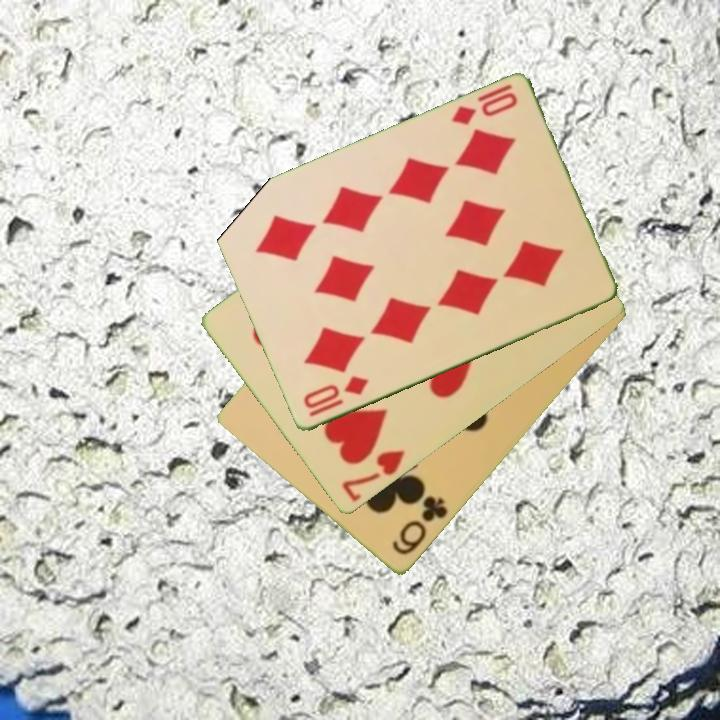10d: (299, 372, 372, 421), (448, 89, 521, 129)
6c: (388, 493, 451, 559)
7h: (338, 446, 408, 505)
